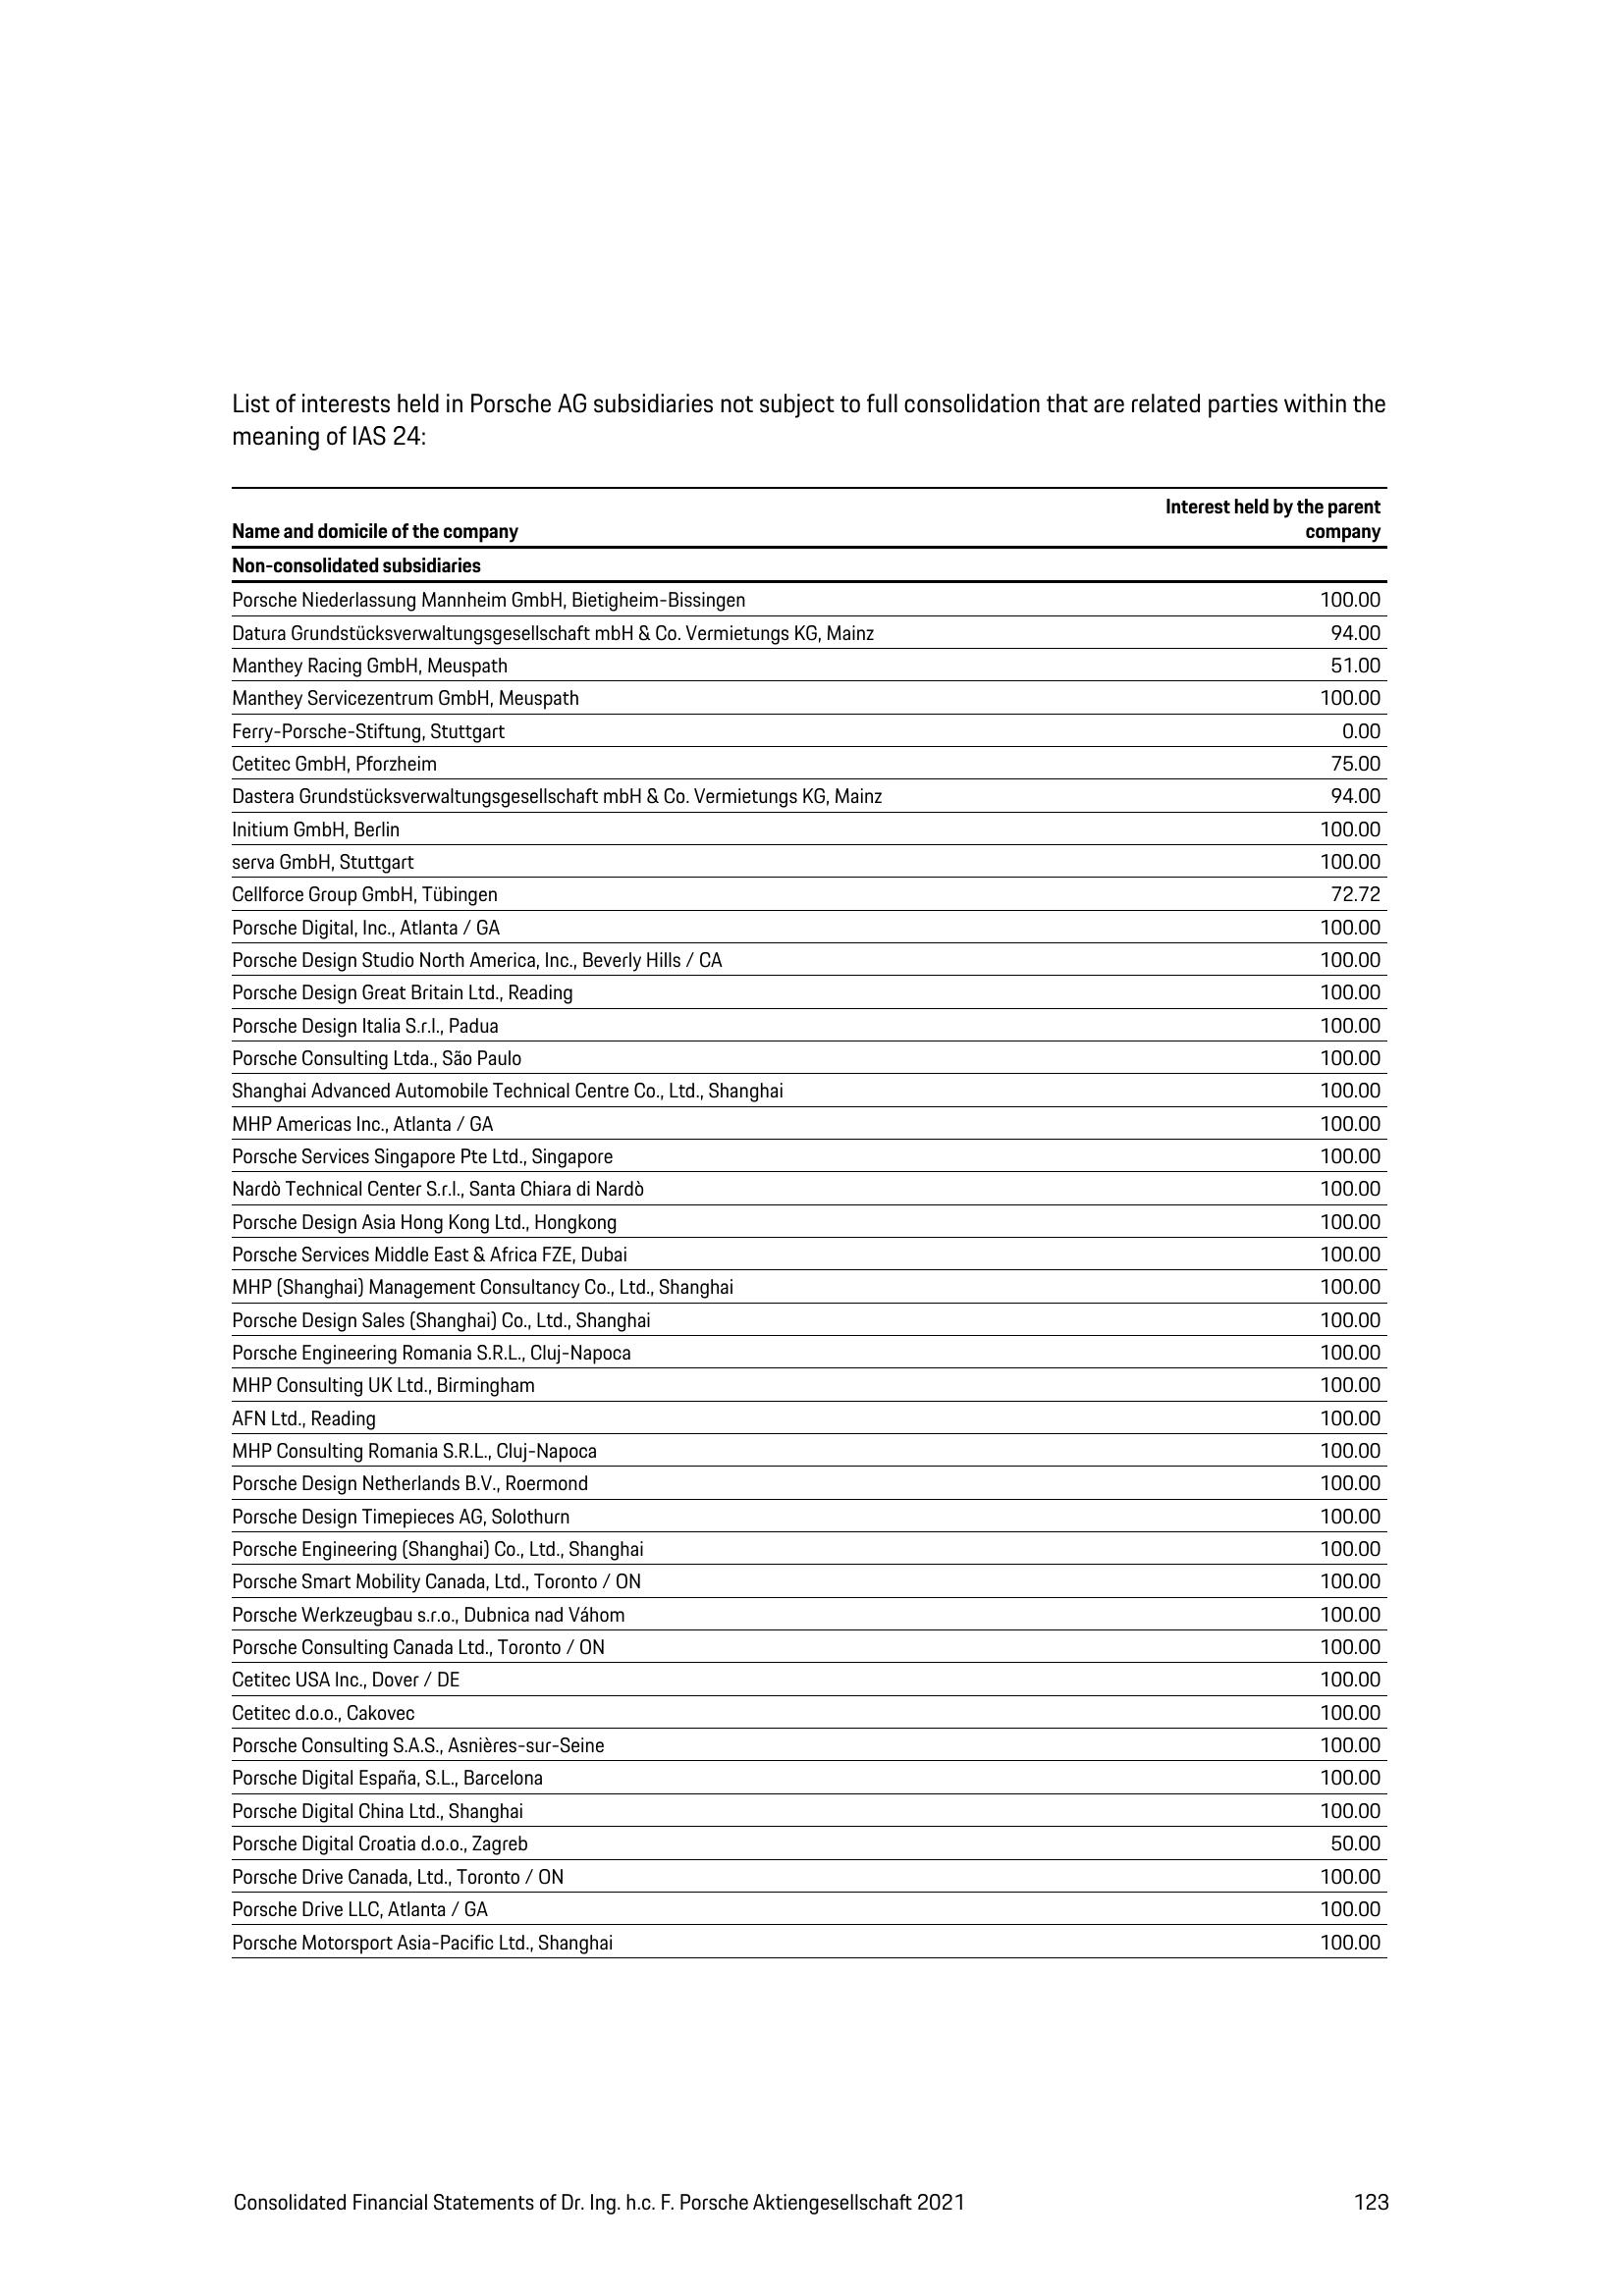Footer: (2, 2161, 1624, 2296)
Header: (0, 0, 1624, 220)
Table: (195, 480, 1429, 1969)
